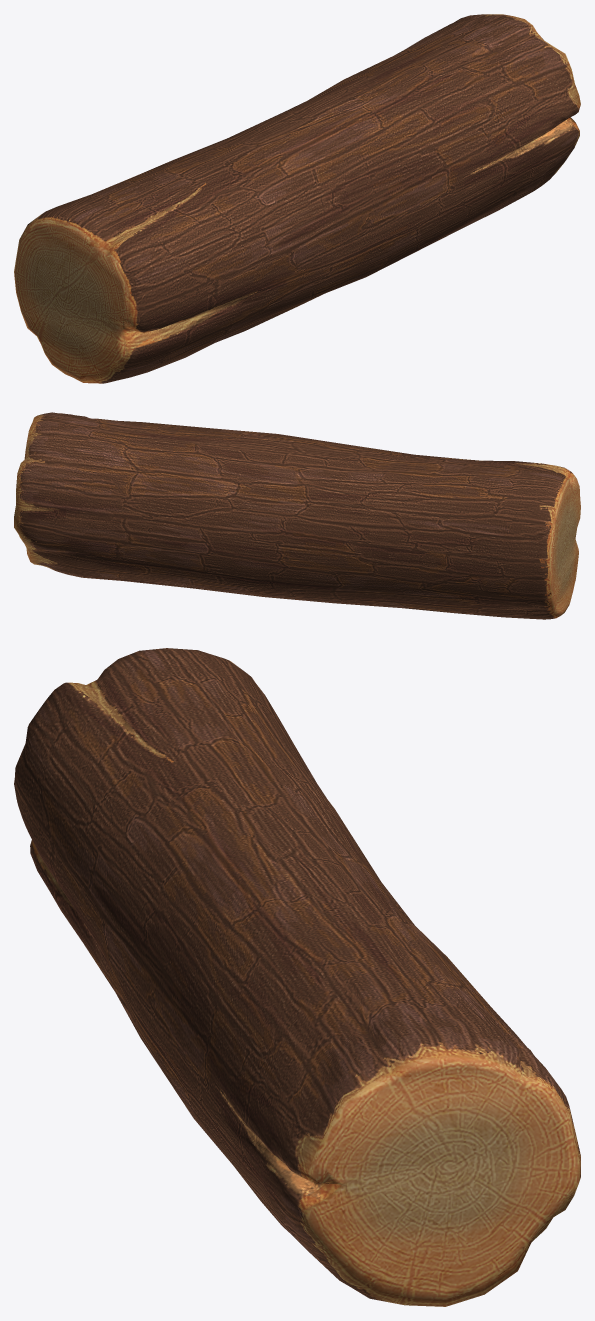
File: log.glb
3 renders of one model, top to bottom at view 1: azimuth 30°, elevation 25°; view 2: azimuth 150°, elevation 25°; view 3: azimuth 270°, elevation 25°, orthographic. The views are drawn at different scales.
Parts seen in each view (by area): view 1: node_id760; view 2: node_id760; view 3: node_id760.
Part boxes in pixels (x1,y1,x2,y2): node_id760: [14, 14, 580, 383]; node_id760: [14, 412, 580, 619]; node_id760: [14, 648, 580, 1306].
Bounding box in the file's own units: 0.9196 × 0.272 × 0.4862.
Materials: 1 (1 with a texture image).
